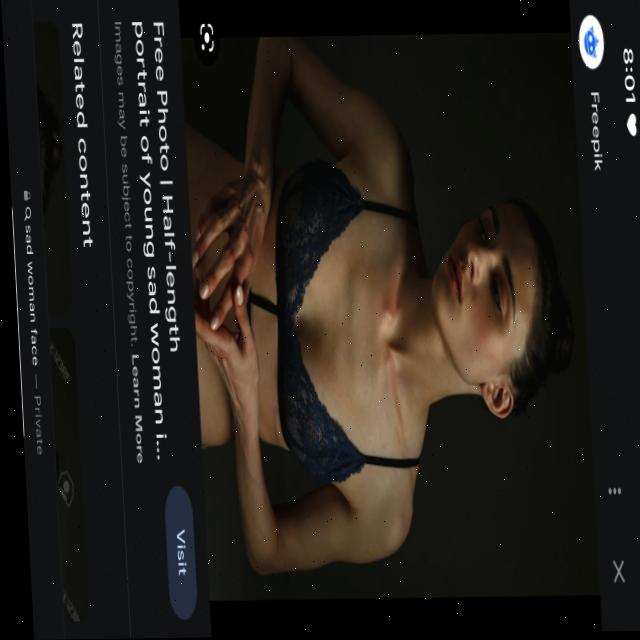natural: (423, 209, 547, 406)
